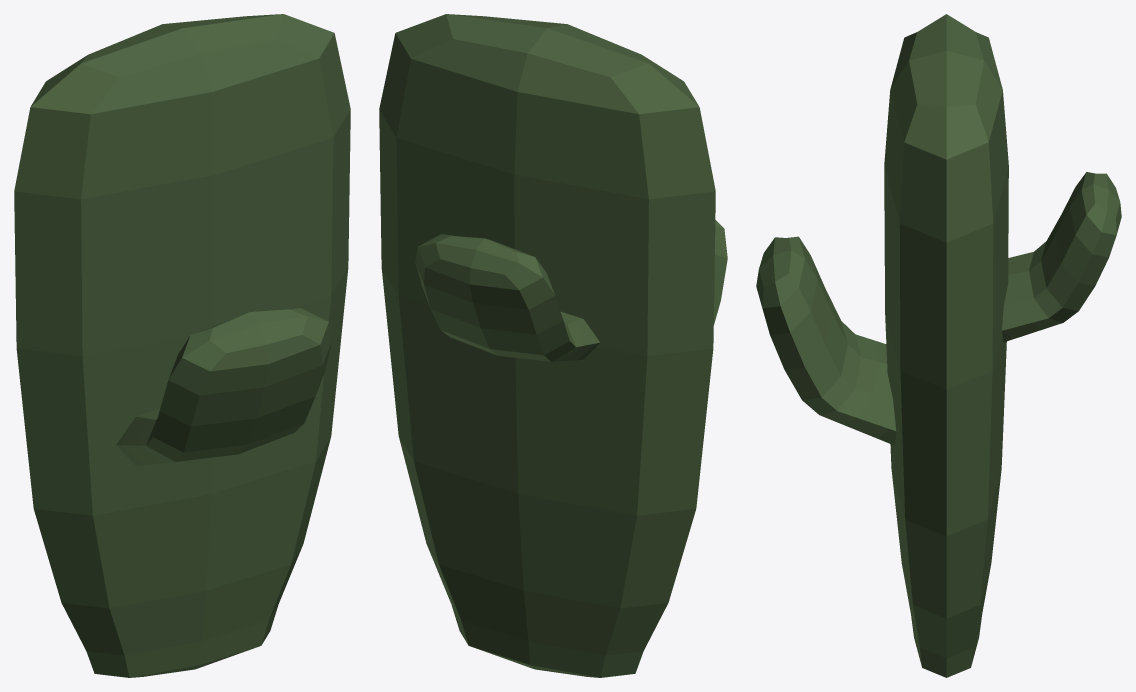
File: decor-cactus.glb
3 views of the same model, side by side, from view 1: azimuth 30°, elevation 25°; view 2: azimuth 150°, elevation 25°; view 3: azimuth 270°, elevation 25° (orthographic). The views are drawn at different scales.
Visible parts, largest first — view 1: Cactus_3; view 2: Cactus_3; view 3: Cactus_3.
Boxes of the visible parts, bbox=[...] form: Cactus_3: bbox=[14, 14, 350, 677]; Cactus_3: bbox=[379, 14, 727, 677]; Cactus_3: bbox=[756, 14, 1121, 677].
Bounding box in the file's own units: 0.25 × 0.45 × 0.25.
